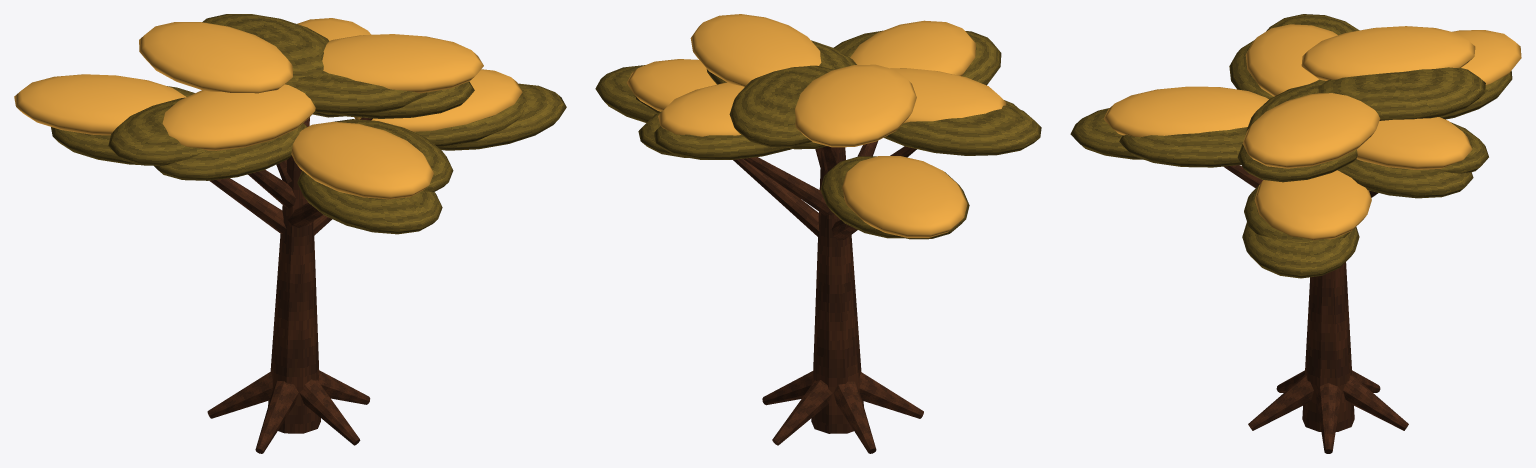
The model's file is planta-1.glb.
The picture shows the model from 3 angles, left to right: view 1: azimuth 30°, elevation 25°; view 2: azimuth 150°, elevation 25°; view 3: azimuth 270°, elevation 25°; orthographic projection. The views are drawn at different scales.
Visible parts, largest first — view 1: Folhagem.004, Folhagem.001, Tronco.003; view 2: Folhagem.004, Folhagem.001, Tronco.003; view 3: Folhagem.004, Folhagem.001, Tronco.003.
Part boxes in pixels (x1,y1,x2,y2): Folhagem.004: [14, 18, 522, 199]; Folhagem.001: [51, 14, 566, 234]; Tronco.003: [207, 117, 372, 453]; Folhagem.004: [627, 14, 1006, 237]; Folhagem.001: [595, 30, 1041, 239]; Tronco.003: [733, 141, 923, 453]; Folhagem.004: [1103, 24, 1521, 240]; Folhagem.001: [1070, 14, 1512, 278]; Tronco.003: [1224, 165, 1408, 453].
Size of the model in its own units: 1.29 by 1.01 by 1.15.
3 materials, 2 textured.
